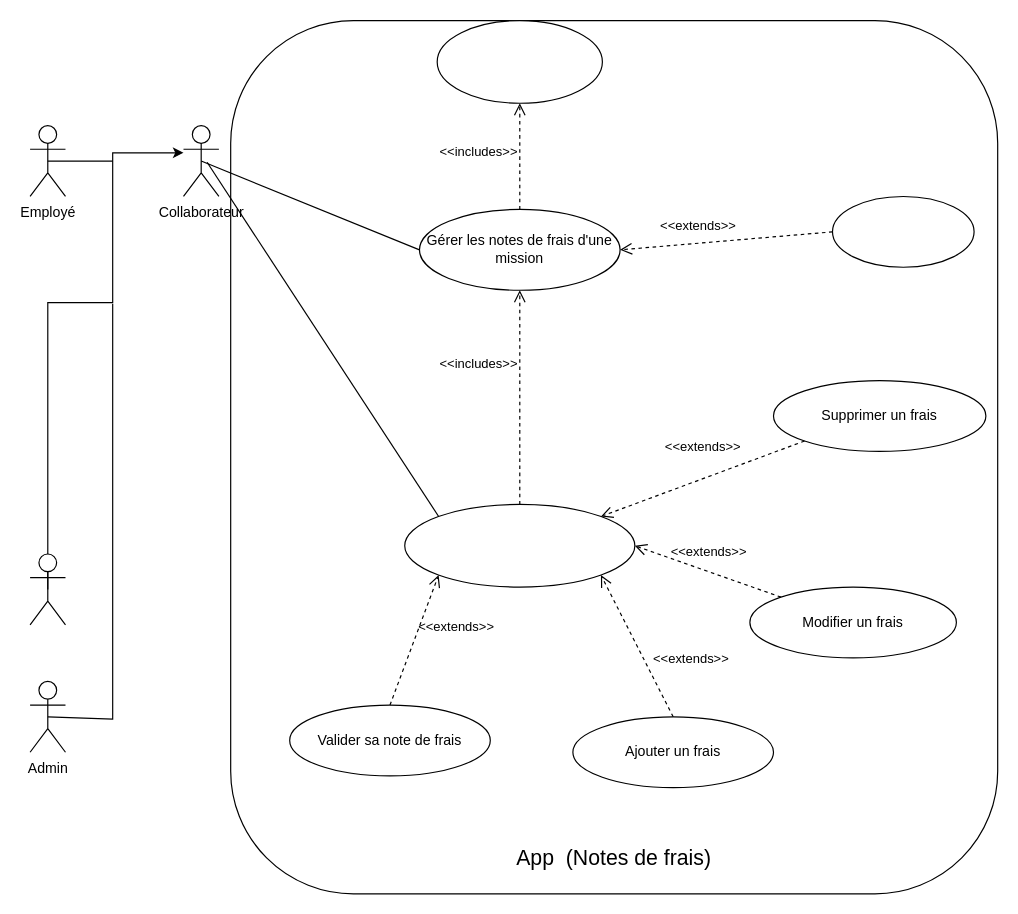
The diagram is 1018 pixels wide and 914 high, and some of its shapes have lost their labels. Here are the shapes that lost their labels. From the top down, the box of each, then its label:
(436, 19, 602, 103): Se connecter
(831, 195, 974, 267): Exporter en pdf une note de frais
(404, 503, 635, 587): Saisir une note de frais d'une mission
(29, 553, 65, 625): Manager
